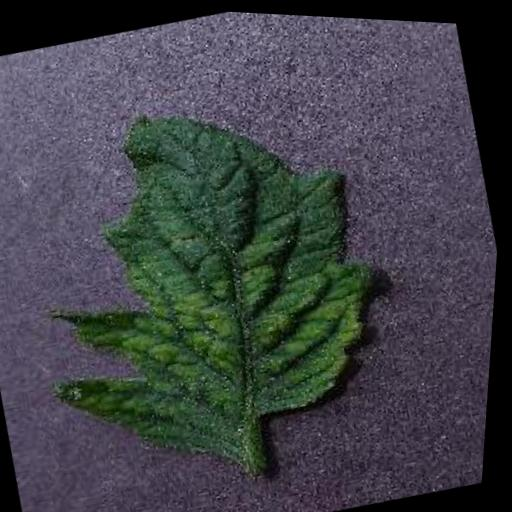Mosaic Virus: (0, 62, 417, 504)
